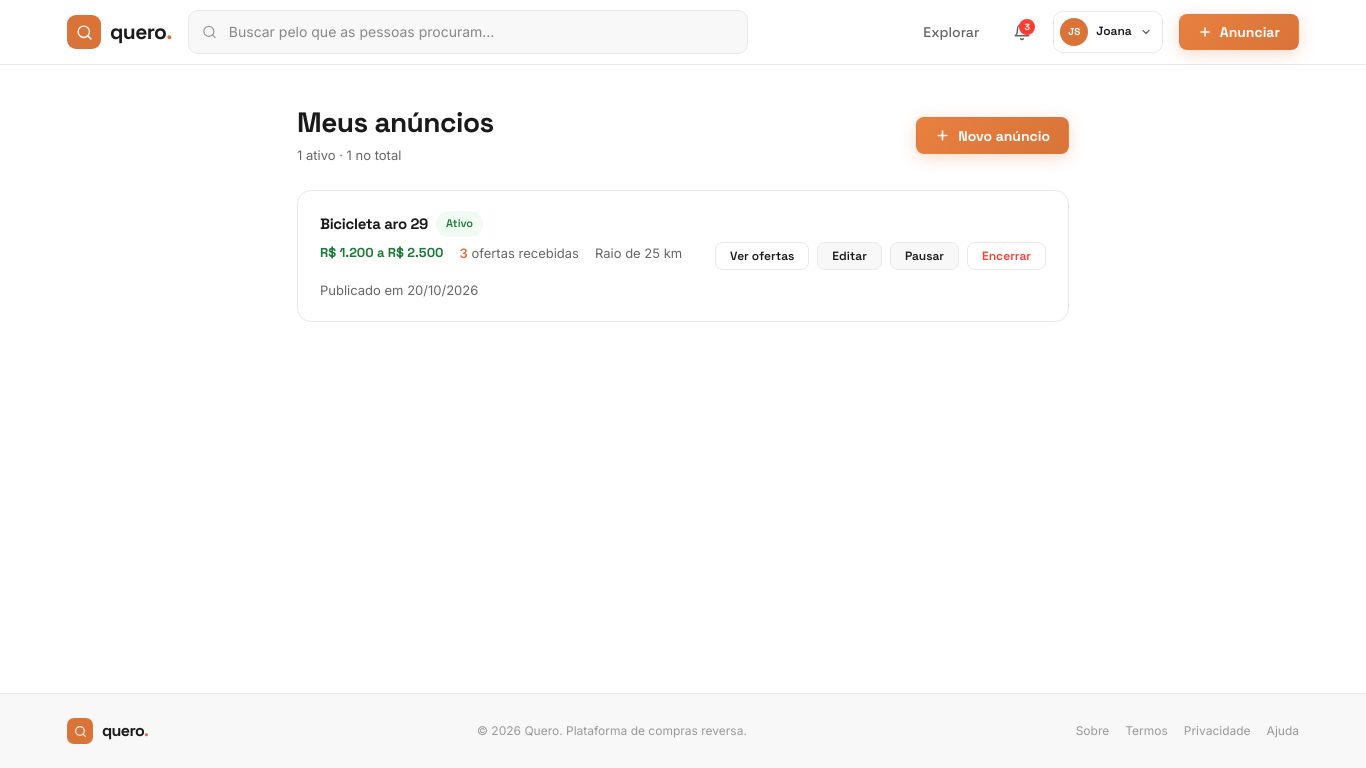
Test case: meus anúncios › pede confirmação antes de encerrar
Click the button "Encerrar" at point(1007, 256), box [967,242,1046,270]
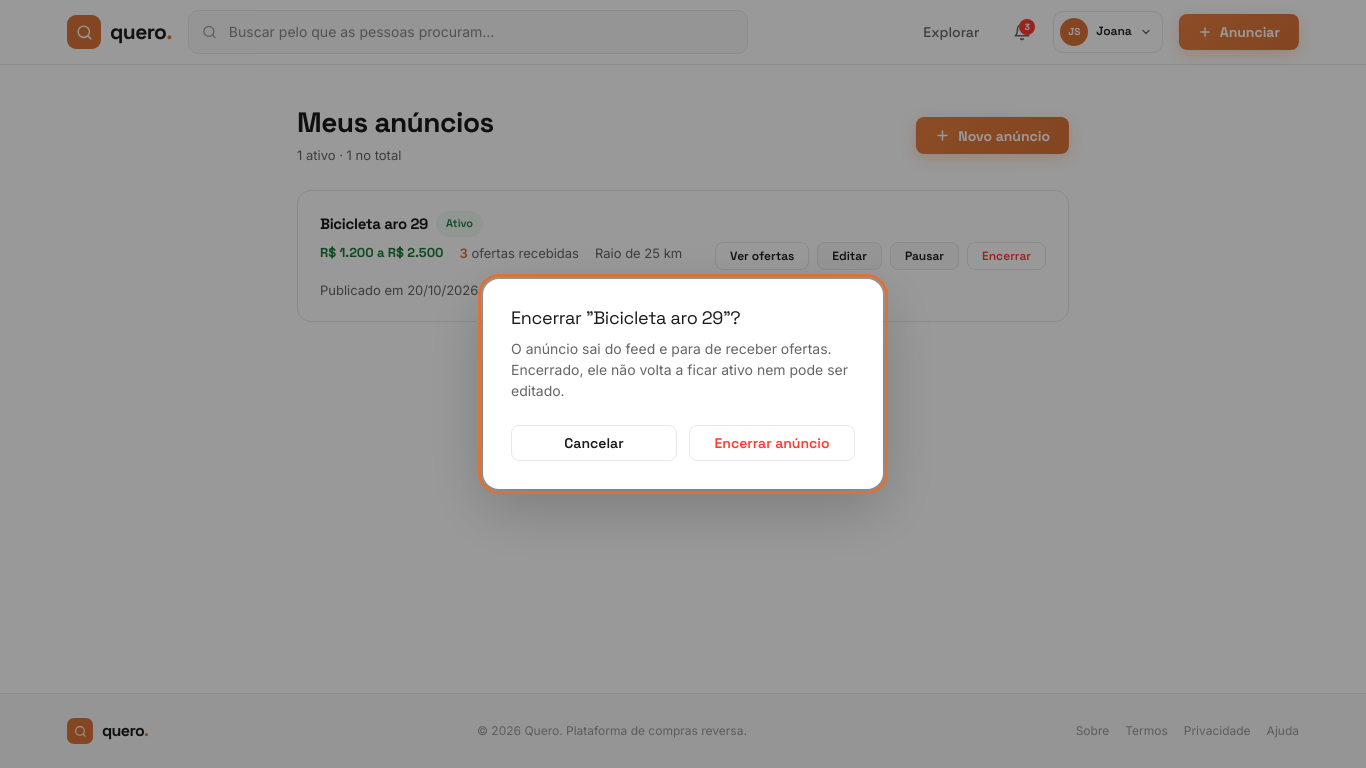
Click the button "Cancelar" at point(594, 443), box [511,425,677,461]
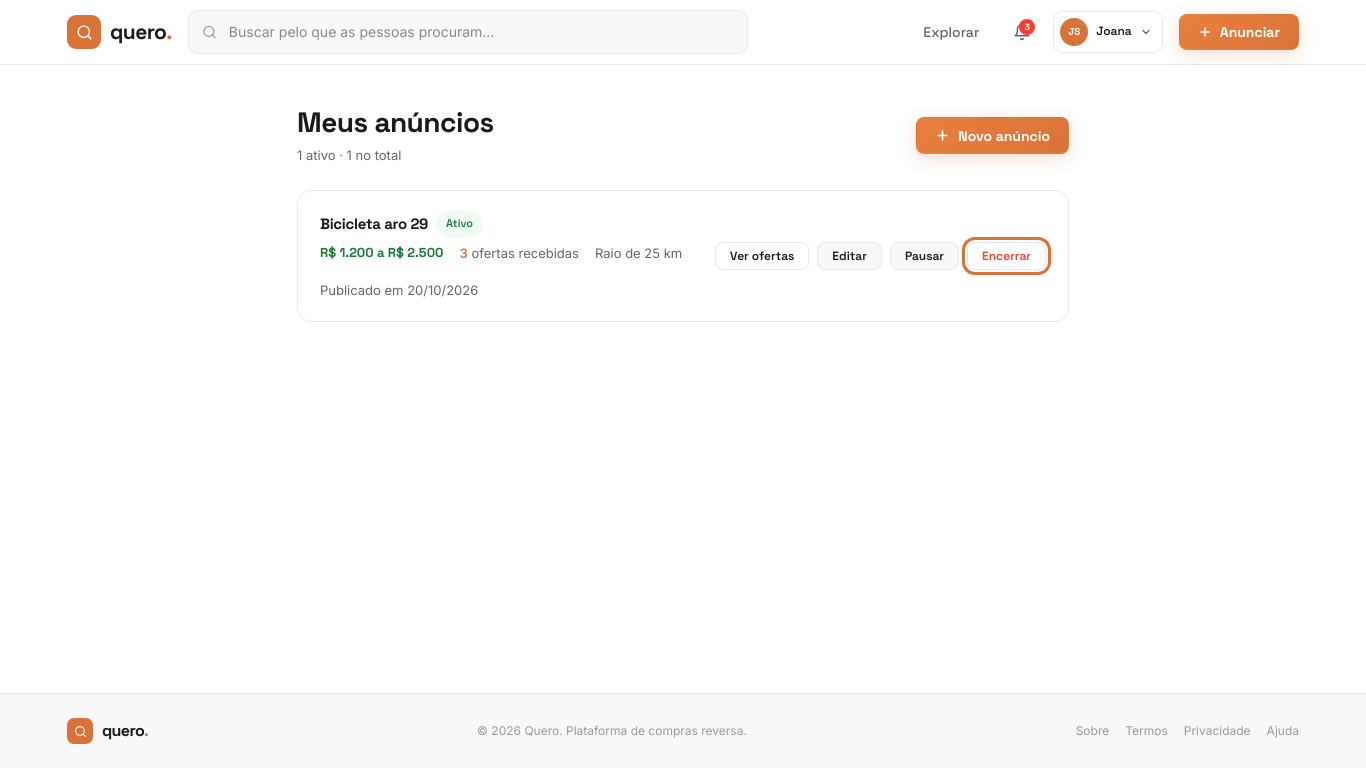
Result: the dialog is gone
Click the button "Encerrar" at point(1007, 256), box [967,242,1046,270]
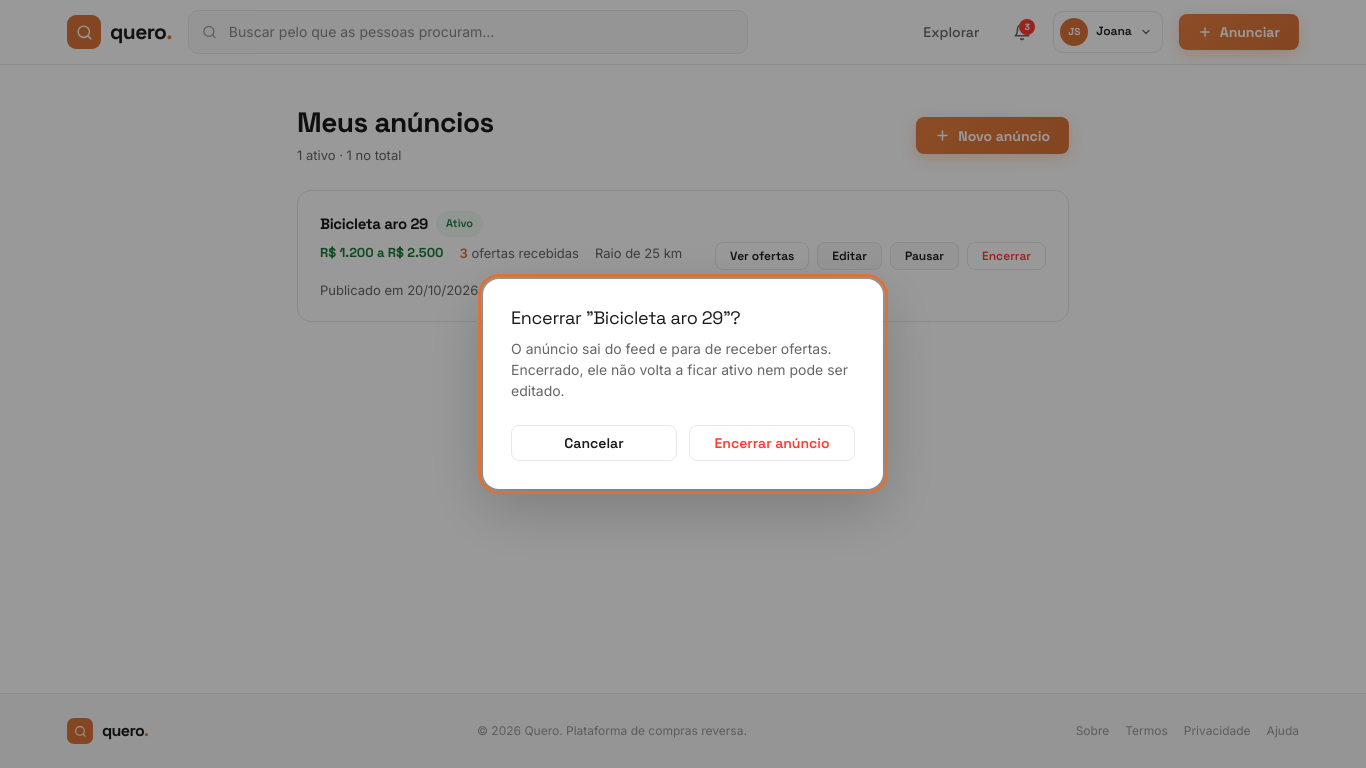
Click the button "Encerrar anúncio" at point(772, 443), box [689,425,855,461]
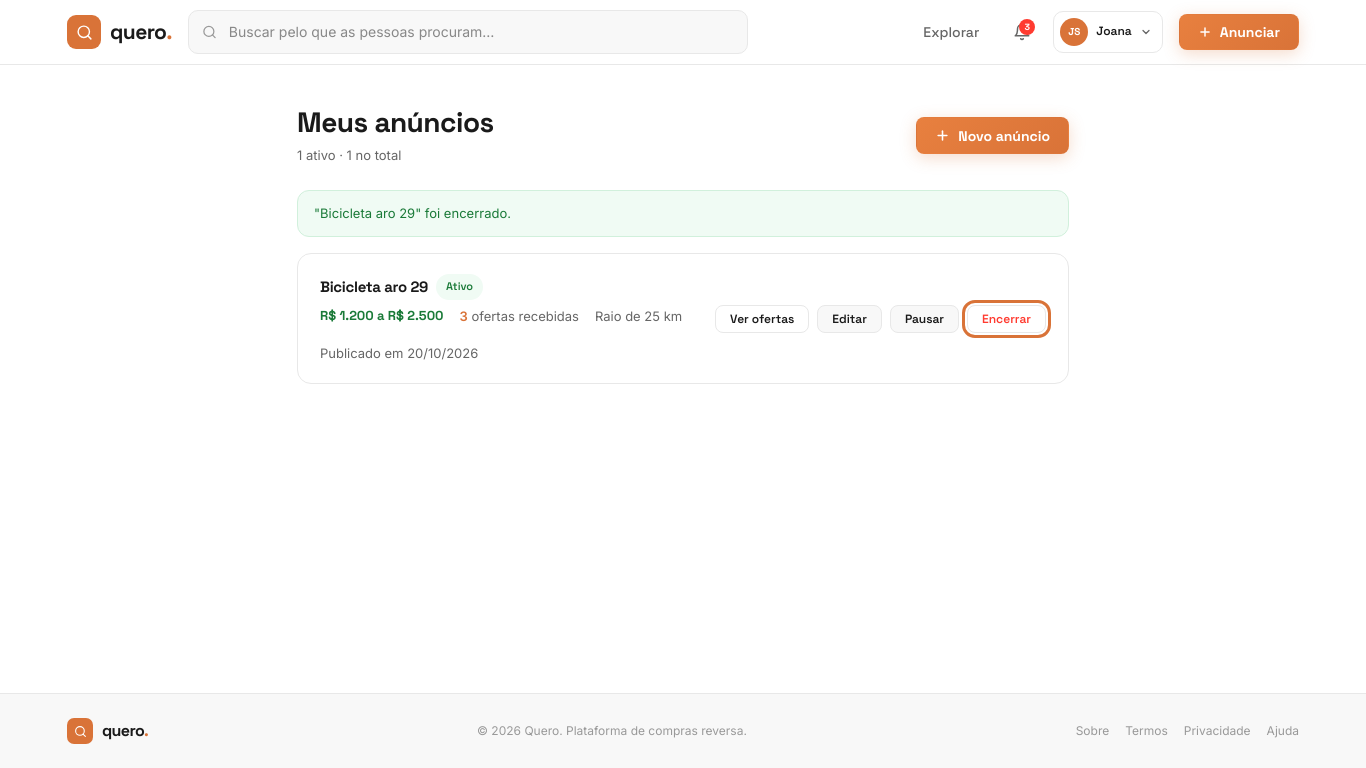
Result: the text "\"Bicicleta aro 29\" foi encerrado." is shown at [297,190,1069,237]
